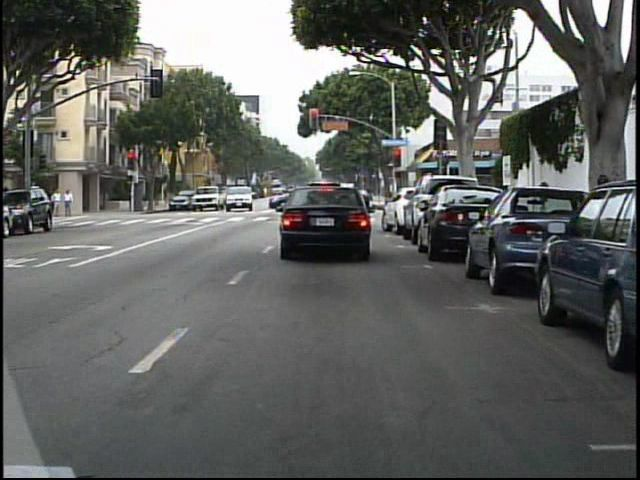person: (62, 188, 78, 219), (49, 187, 62, 218), (54, 186, 65, 221)
